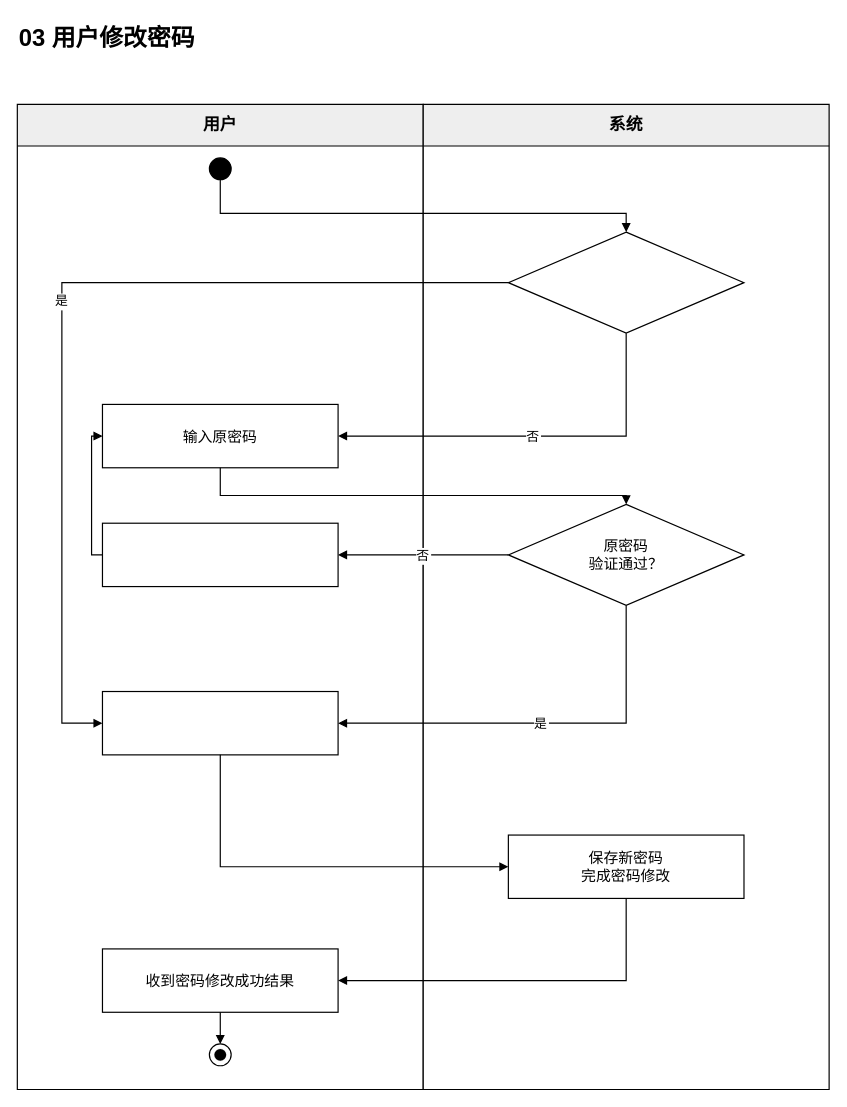
Image size: 847x1107. Some labels were removed from this diagram. Here are the shapes that lost their labels. From the top down, the centre of each, then its label:
At (625,282): "本次是否为 强制修改密码？".
At (219,554): "查看原密码错误提示".
At (219,722): "输入并提交新密码".
